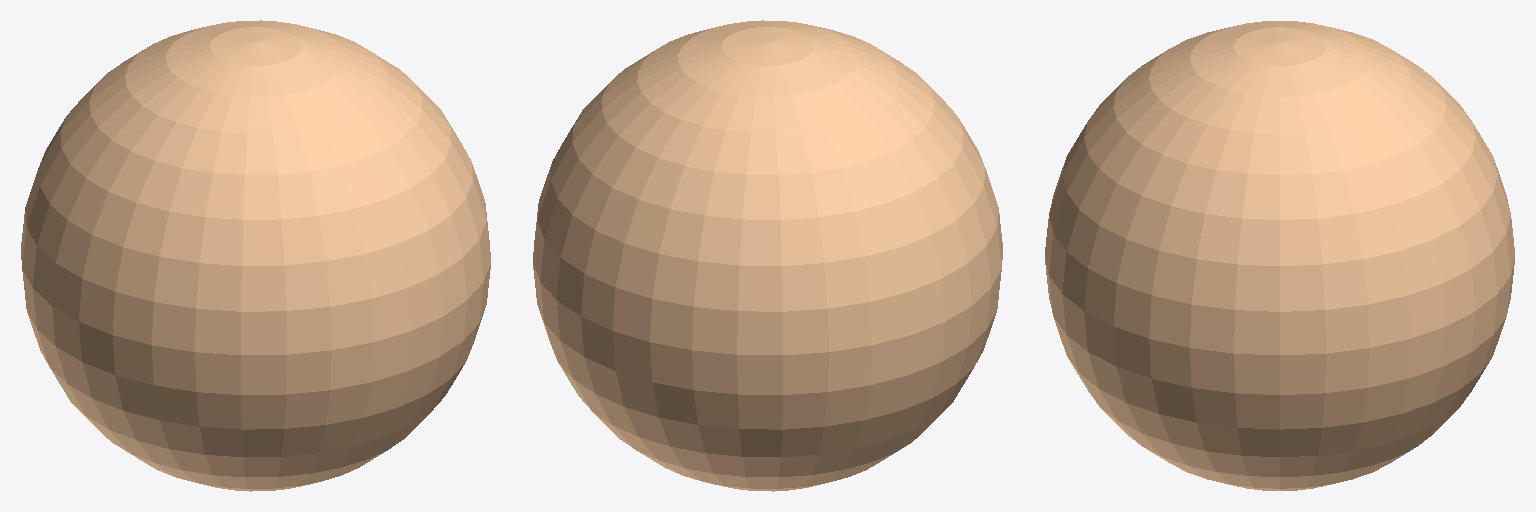
The robot description file, URDF, robot "montessori_object_4":
<?xml version="1.0" ?>
<robot name="montessori_object_4" version="1.0">
  <link name="montessori_object_4">
    <inertial>
      <origin xyz="0.0 0.0 0.0" rpy="0.0 0.0 0.0"/>
      <mass value="0.033510319888591766"/>
      <inertia ixx="5.361651346902363e-06" ixy="0.0" ixz="0.0" iyy="5.361651346902363e-06" iyz="0.0" izz="5.361651346902363e-06"/>
    </inertial>
    <visual name="MontessoriObject4">
      <origin xyz="0.0 0.0 0.0" rpy="0.0 0.0 0.0"/>
      <geometry>
        <sphere radius="0.019999999552965164"/>
      </geometry>
      <material name="MontessoriObject4_material">
        <color rgba="1.0 0.83 0.67 1.0"/>
      </material>
    </visual>
  </link>
</robot>

--- What the picture shows (computed from the rendered views, not written in the file) ---
The picture shows the robot from 3 angles, left to right: view 1: azimuth 30°, elevation 25°; view 2: azimuth 150°, elevation 25°; view 3: azimuth 270°, elevation 25°; orthographic projection.
Model montessori_object_4 with 1 links and 0 joints (none), rooted at montessori_object_4, posed all joints at 0.
Visible links, largest first — view 1: montessori_object_4; view 2: montessori_object_4; view 3: montessori_object_4.
Link boxes in pixels (x1,y1,x2,y2): montessori_object_4: (21, 20, 490, 491); montessori_object_4: (533, 20, 1002, 491); montessori_object_4: (1045, 21, 1514, 490).
Size in the robot's own frame: 0.04 by 0.04 by 0.04 metres.
Geometry: primitives only (box / cylinder / sphere), no mesh files.